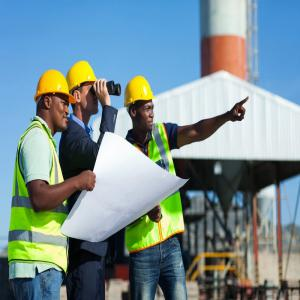yellow: (35, 70, 71, 136), (67, 62, 101, 120), (125, 76, 155, 133)
